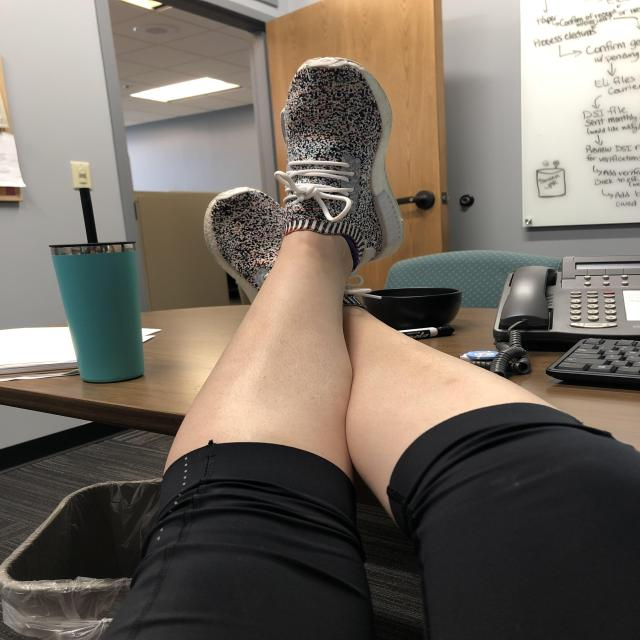shoe: (280, 49, 404, 283), (195, 168, 268, 313)
